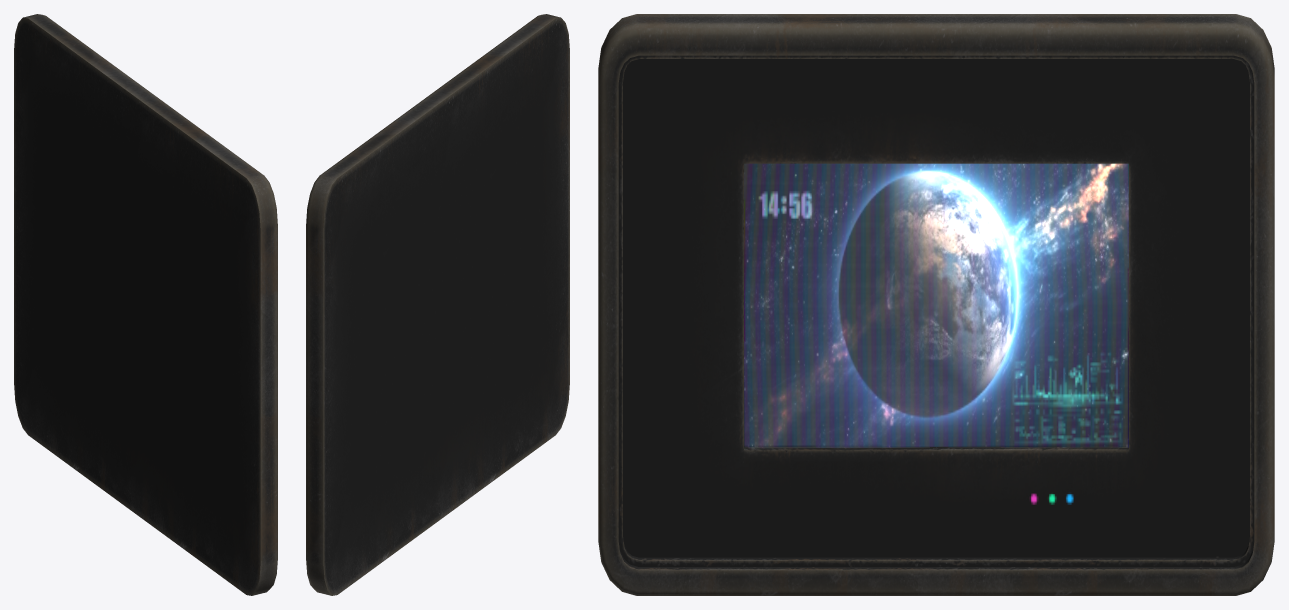
File: display.glb
3 renders of one model, left to right at view 1: azimuth 30°, elevation 25°; view 2: azimuth 150°, elevation 25°; view 3: azimuth 270°, elevation 25°, orthographic. The views are drawn at different scales.
Parts seen in each view (by area): view 1: SM_screen_T_bed_display_0; view 2: SM_screen_T_bed_display_0; view 3: SM_screen_T_bed_display_0.
Boxes of the visible parts, <box> form: SM_screen_T_bed_display_0: <box>14,14,277,595</box>; SM_screen_T_bed_display_0: <box>306,14,569,595</box>; SM_screen_T_bed_display_0: <box>598,14,1274,595</box>.
Size of the model in its own units: 0.068 by 1.4 by 1.5.
Materials: 1 (1 with a texture image).
